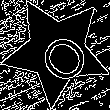O_NW: (24, 18, 89, 84)
